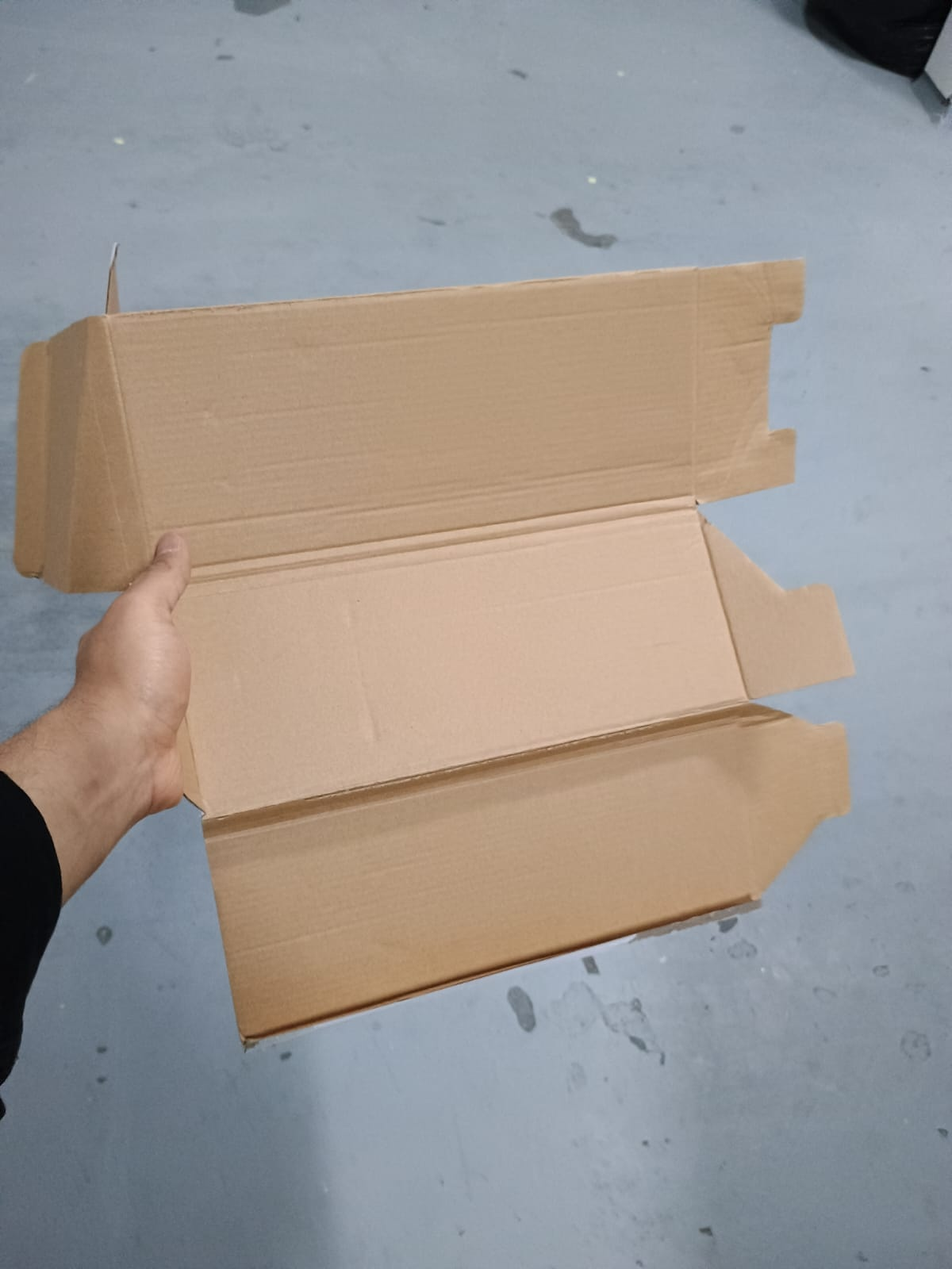Carton: (19, 258, 850, 1050)
